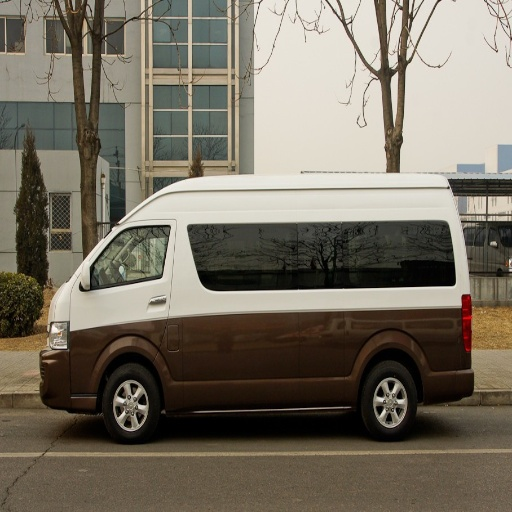back_left_door: (296, 301, 336, 398)
trunk: (338, 292, 463, 397), (72, 330, 111, 397)
